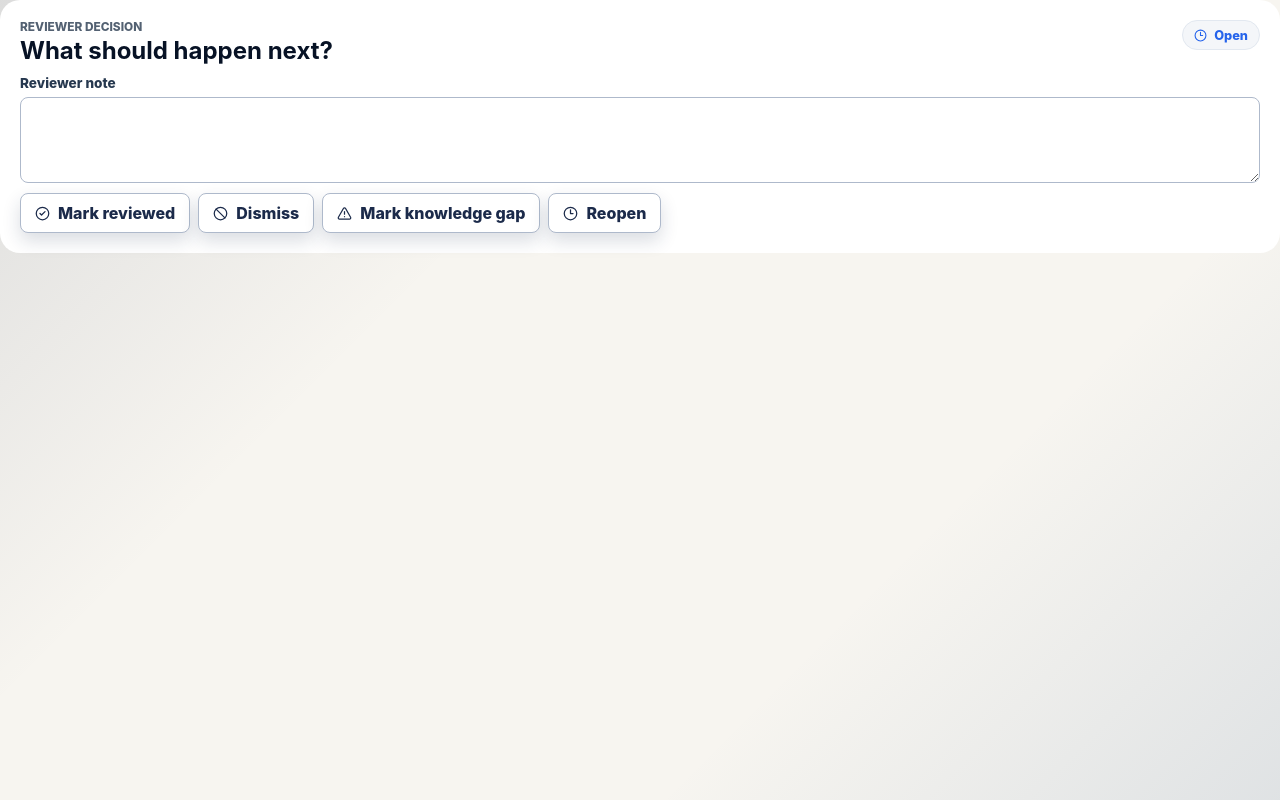
Test case: ReviewDecisionForm › maps API errors in the decision form
The width and height of the screenshot is (1280, 800).
What coordinates should you click on to do the following:
click the button "Mark reviewed"
I would click on:
 (105, 213)
Its box is [20,193,190,233].
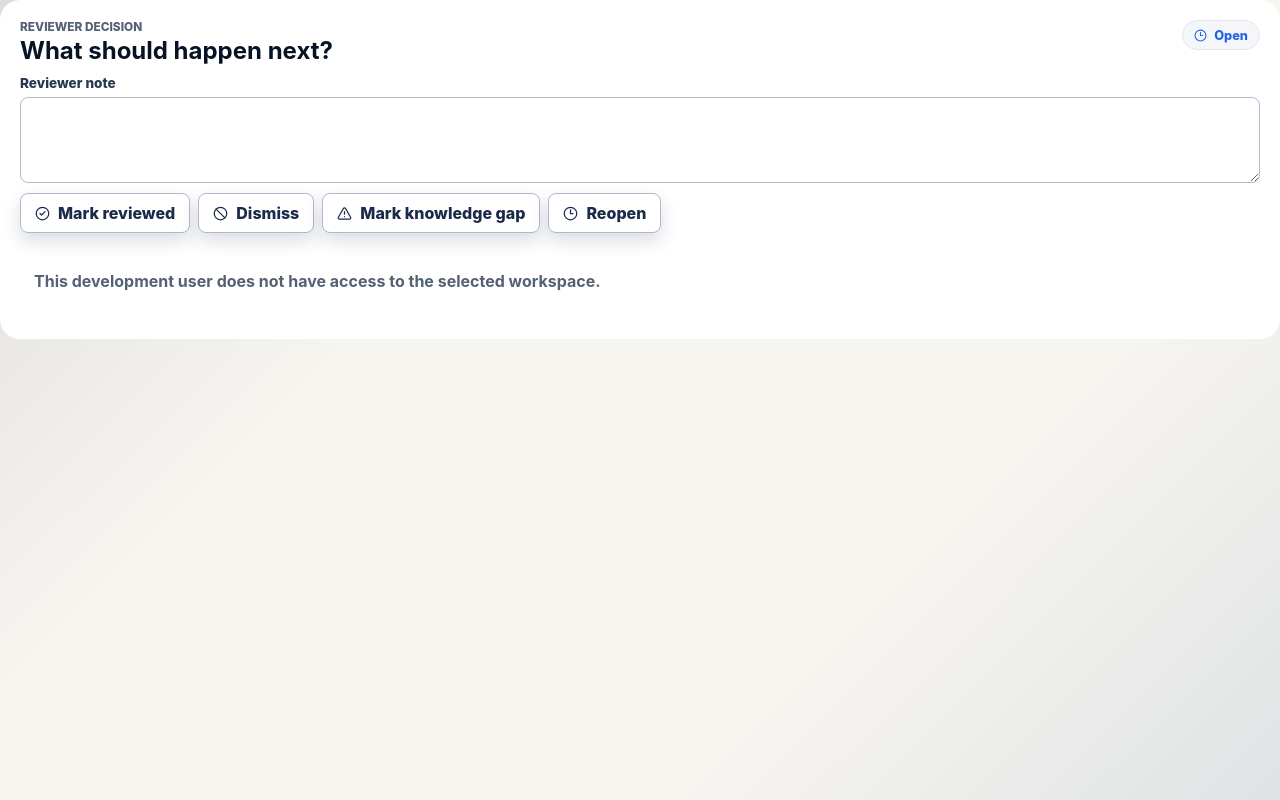
Result: the text "This development user does not have access to the selected workspace." is shown at [34,271,601,291]
